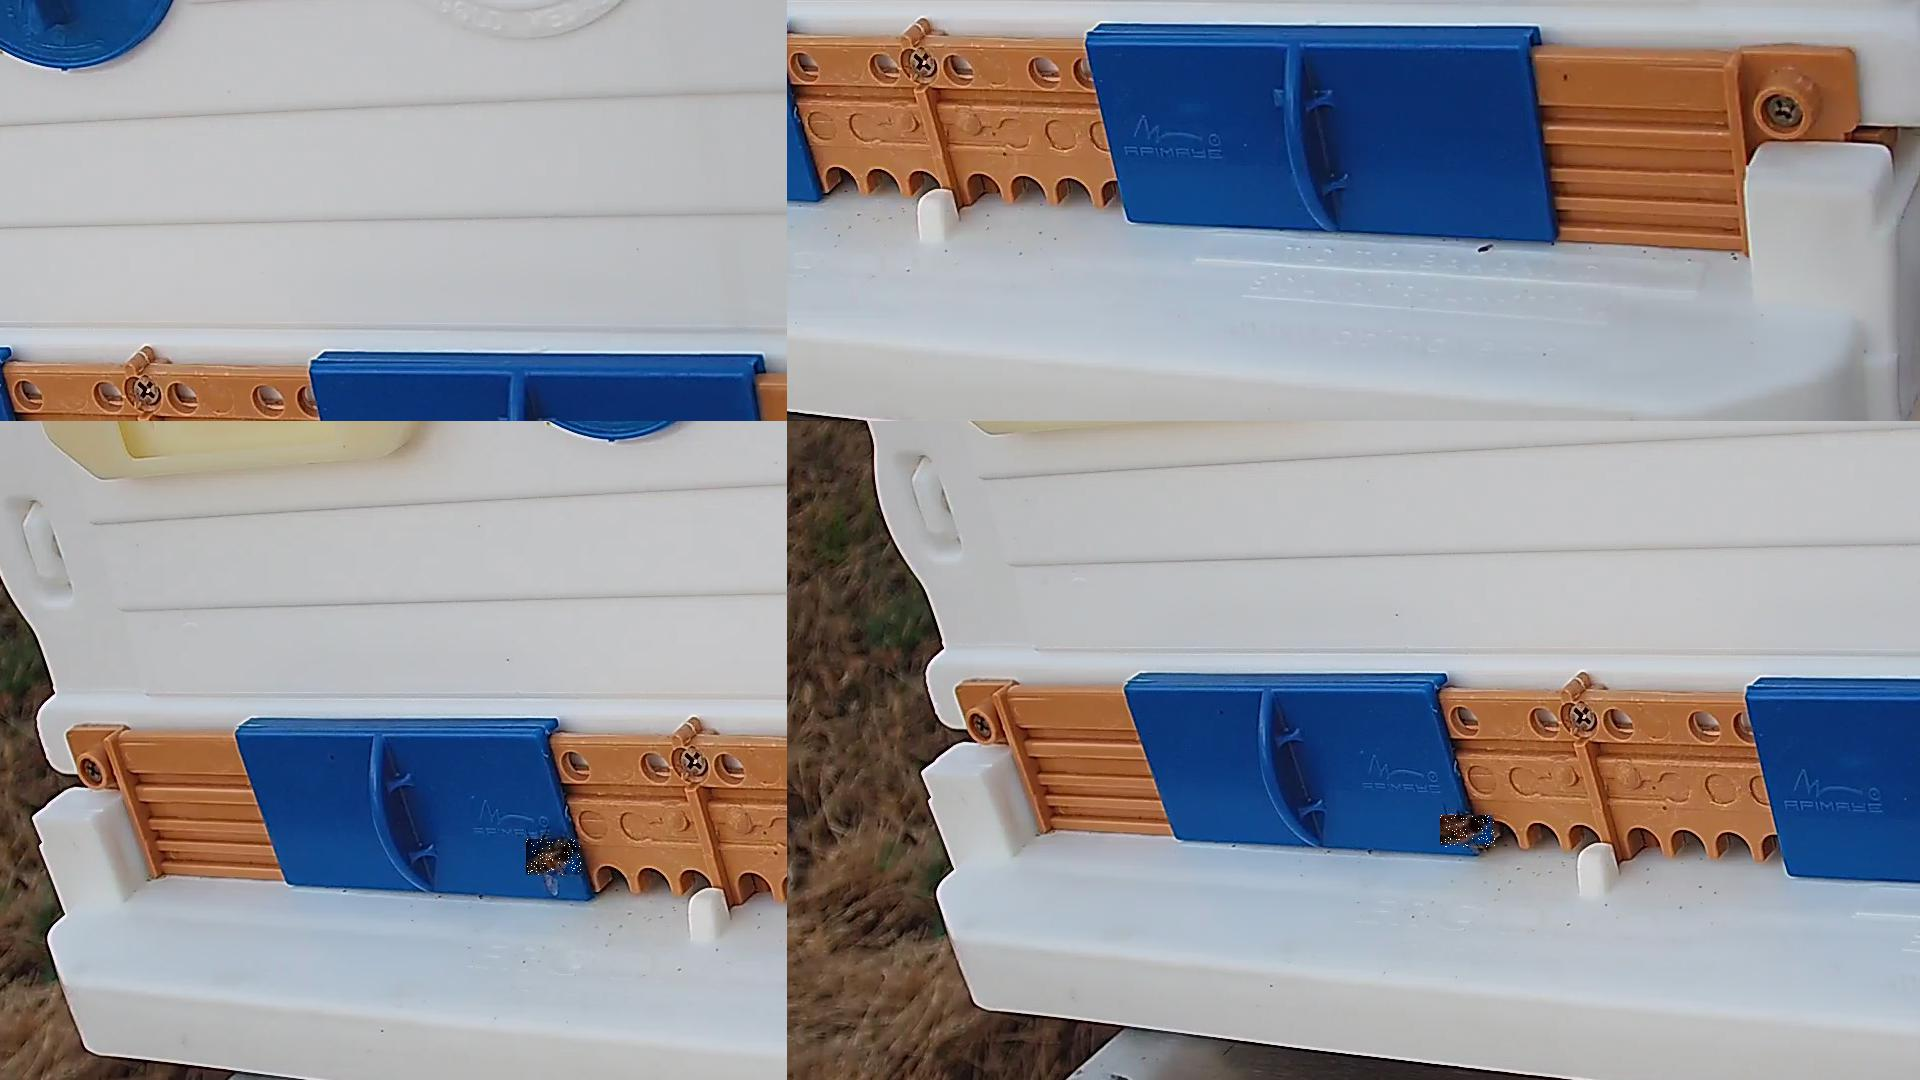bee: (526, 839, 583, 876), (1441, 816, 1497, 849)
